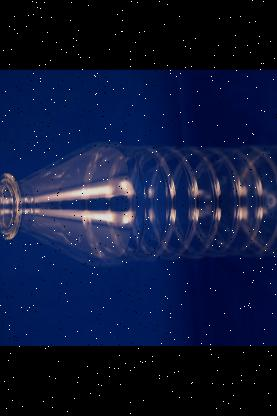Plastic Bottle: (0, 119, 277, 281)
